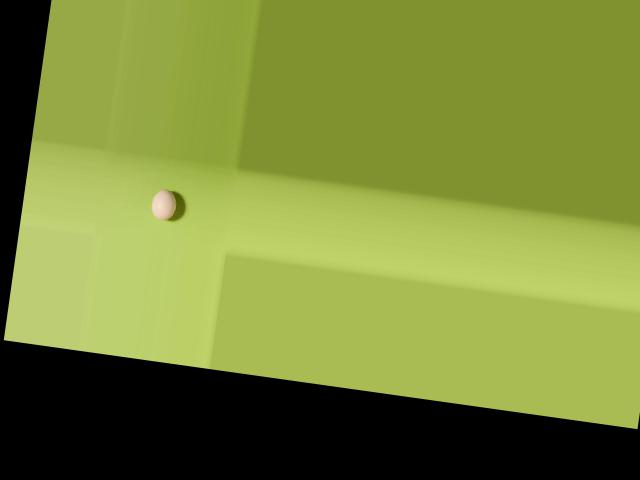egg: (151, 186, 178, 221)
